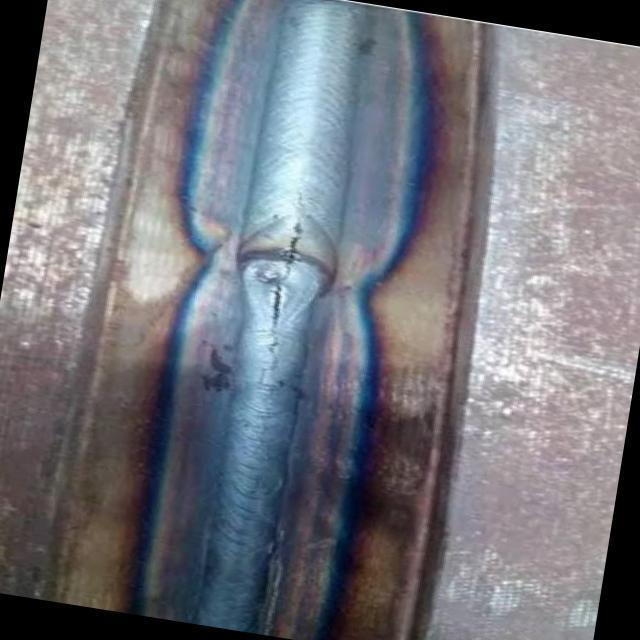defect: (250, 216, 306, 389)
